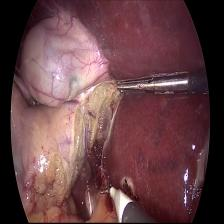Grasper: (111, 68, 190, 100)
Hook: (97, 173, 138, 221)
